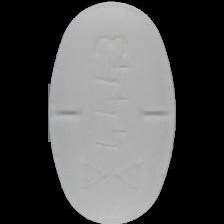35356-850: (0, 0, 224, 224)
